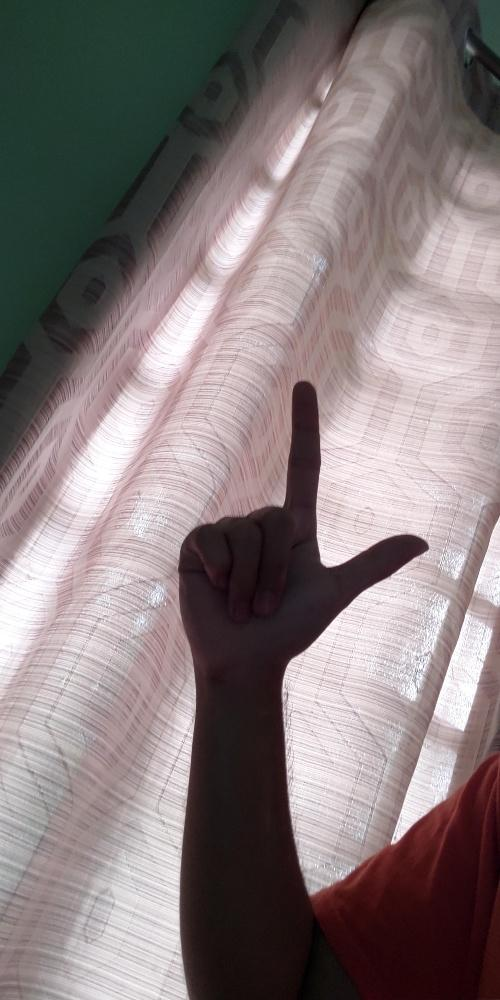l: (177, 378, 429, 675)
